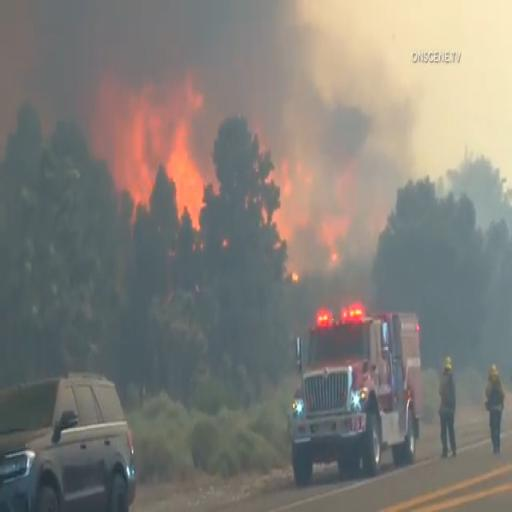fire: (124, 99, 202, 230)
